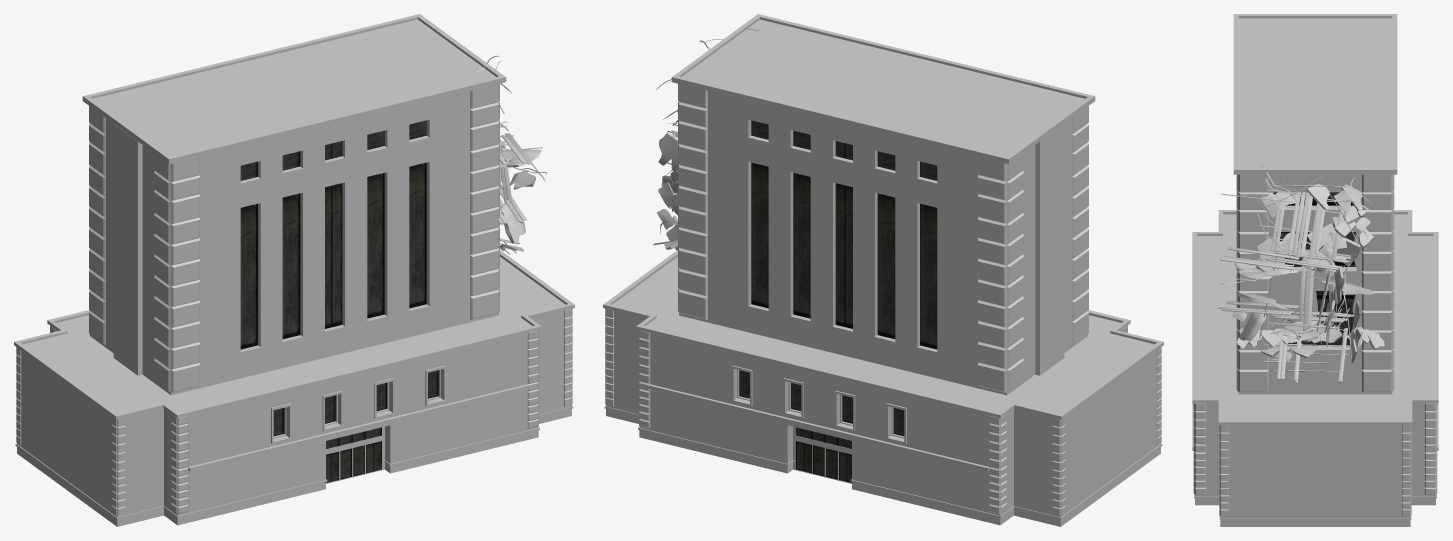
File: SM_Building_02.FBX
3 renders of one model, left to right at view 1: azimuth 30°, elevation 25°; view 2: azimuth 150°, elevation 25°; view 3: azimuth 270°, elevation 25°, orthographic. The views are drawn at different scales.
Visible parts, largest first — view 1: SM_Building_02_LOD0; view 2: SM_Building_02_LOD0; view 3: SM_Building_02_LOD0.
Part boxes in pixels (<box>): SM_Building_02_LOD0: <box>14,14,574,526</box>; SM_Building_02_LOD0: <box>603,14,1163,526</box>; SM_Building_02_LOD0: <box>1192,14,1438,526</box>.
Size of what is drawn, in the model's own units: 57.69 by 41.83 by 28.32.
